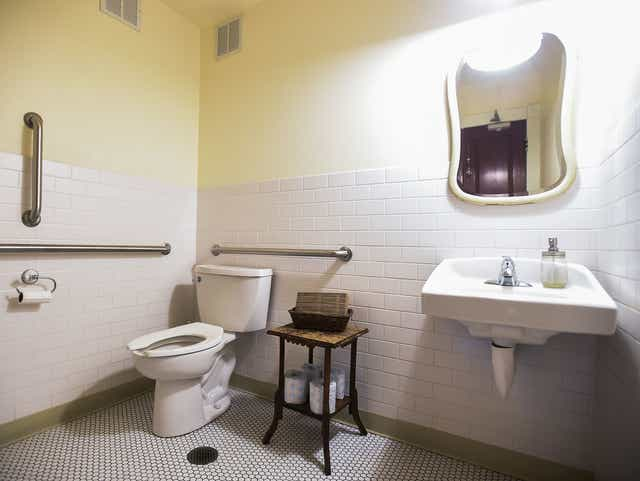dispenser: (15, 269, 57, 305)
faucet: (484, 257, 535, 291)
restroom_assist_bar: (22, 108, 44, 228), (209, 244, 352, 261), (1, 242, 174, 254)
sink: (420, 255, 617, 346)
table: (265, 320, 370, 474)
toilet: (128, 264, 275, 437)
